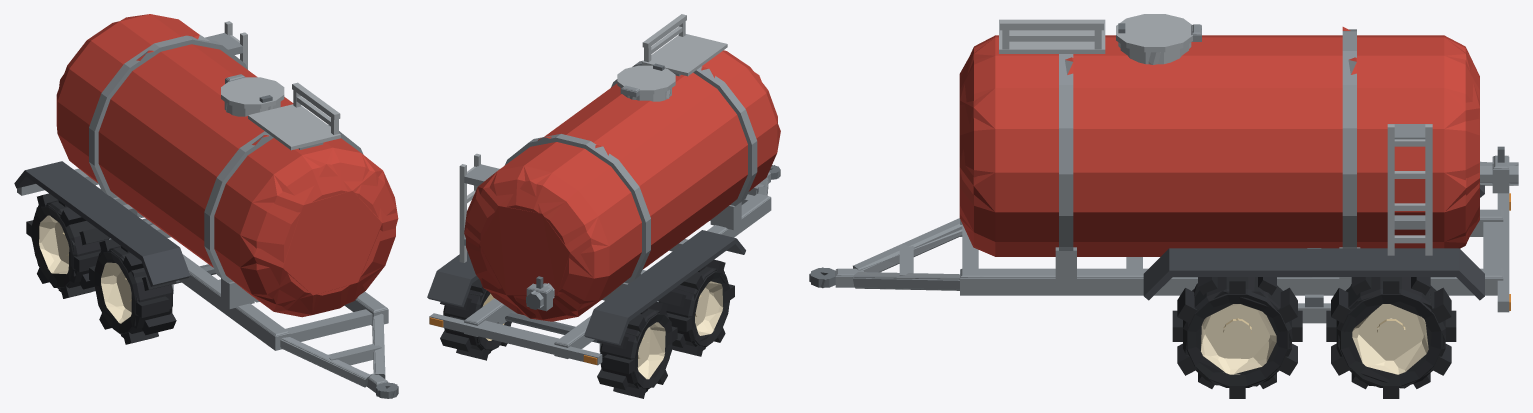
Rendered from FMS_Mach_Trailer_Tank.fbx.
The picture shows the model from 3 angles, left to right: view 1: azimuth 30°, elevation 25°; view 2: azimuth 150°, elevation 25°; view 3: azimuth 270°, elevation 25°; orthographic projection. The views are drawn at different scales.
Parts seen in each view (by area): view 1: Body, Body_Low1, Wheel_FR, Wheel_RR, Wheel_FR_Low1, Wheel_RR_Low1, Hatch; view 2: Body, Body_Low1, Wheel_RR, Wheel_FR, Wheel_RL, Wheel_FR_Low1, Wheel_RR_Low1, Hatch, Wheel_RL_Low1; view 3: Body, Body_Low1, Wheel_FL, Wheel_RL, Wheel_RL_Low1, Wheel_FL_Low1, Hatch.
Boxes of the visible parts, box(x1,y1,x2,y2) form: Body: box(14, 14, 398, 398); Body_Low1: box(57, 14, 398, 398); Wheel_FR: box(89, 239, 176, 344); Wheel_RR: box(26, 193, 110, 298); Wheel_FR_Low1: box(89, 239, 175, 343); Wheel_RR_Low1: box(26, 200, 107, 290); Hatch: box(221, 74, 284, 108); Body: box(427, 14, 780, 365); Body_Low1: box(464, 53, 780, 345); Wheel_RR: box(597, 302, 677, 398); Wheel_FR: box(658, 259, 734, 356); Wheel_RL: box(440, 279, 511, 360); Wheel_FR_Low1: box(658, 262, 734, 356); Wheel_RR_Low1: box(597, 305, 677, 391); Hatch: box(617, 63, 675, 97); Wheel_RL_Low1: box(440, 291, 510, 360); Body: box(811, 19, 1518, 323); Body_Low1: box(809, 27, 1518, 290); Wheel_FL: box(1172, 277, 1302, 398); Wheel_RL: box(1326, 277, 1456, 398); Wheel_RL_Low1: box(1326, 277, 1456, 398); Wheel_FL_Low1: box(1172, 277, 1302, 388); Hatch: box(1116, 14, 1201, 52).
Bounding box in the file's own units: 2.5 × 3.06 × 6.
